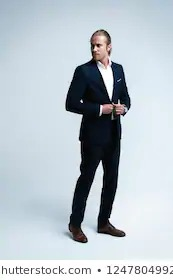F_M_suit jacket: (66, 58, 134, 139)
F_dress pants: (68, 131, 123, 231)
